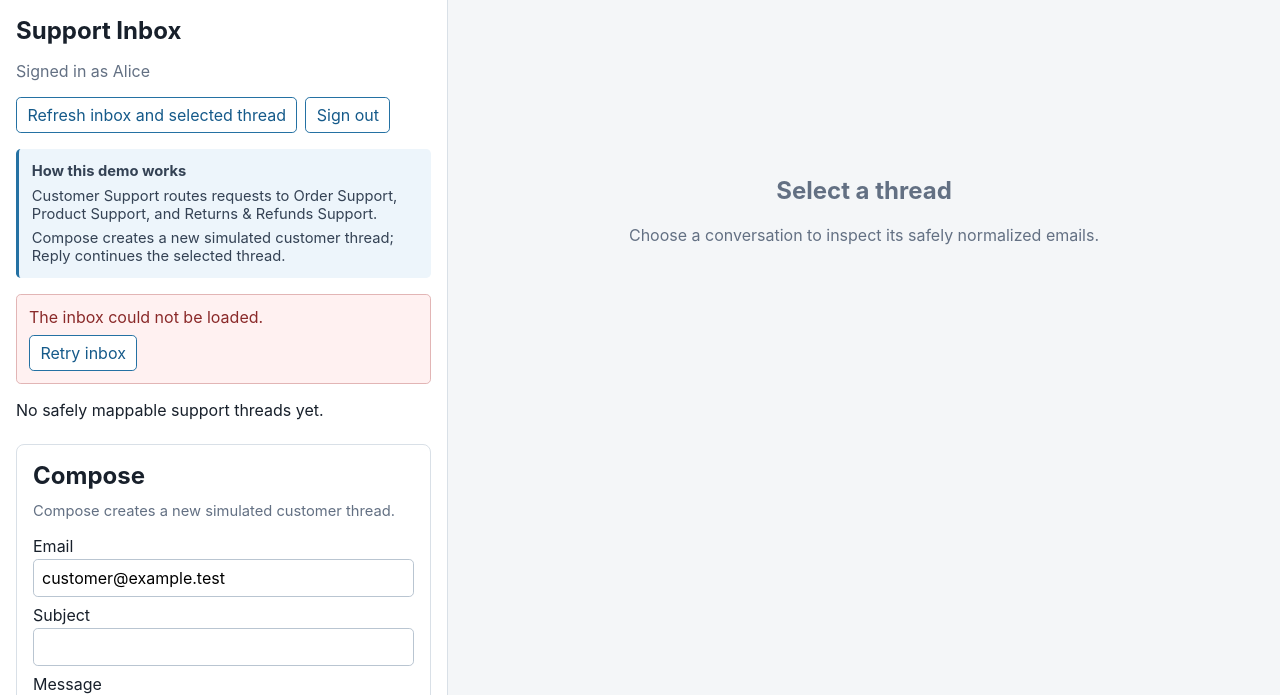
Test case: Support Inbox › retries a failed inbox load from the visible retry action
The width and height of the screenshot is (1280, 695).
Check: the message reads "The inbox could not be loaded.", box [29,307,263,327]
Click the button "Retry inbox".
click(83, 353)  # box [29,335,137,371]
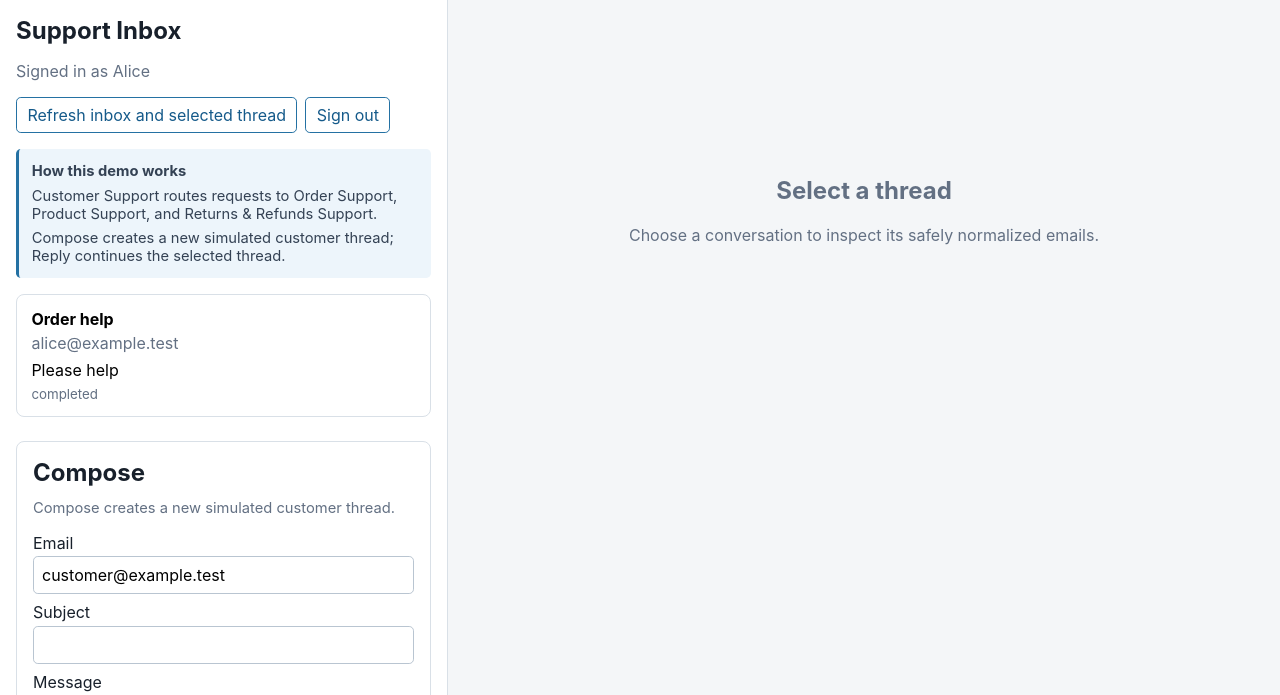
Check: the text "Order help" is shown, box [31,309,114,329]
